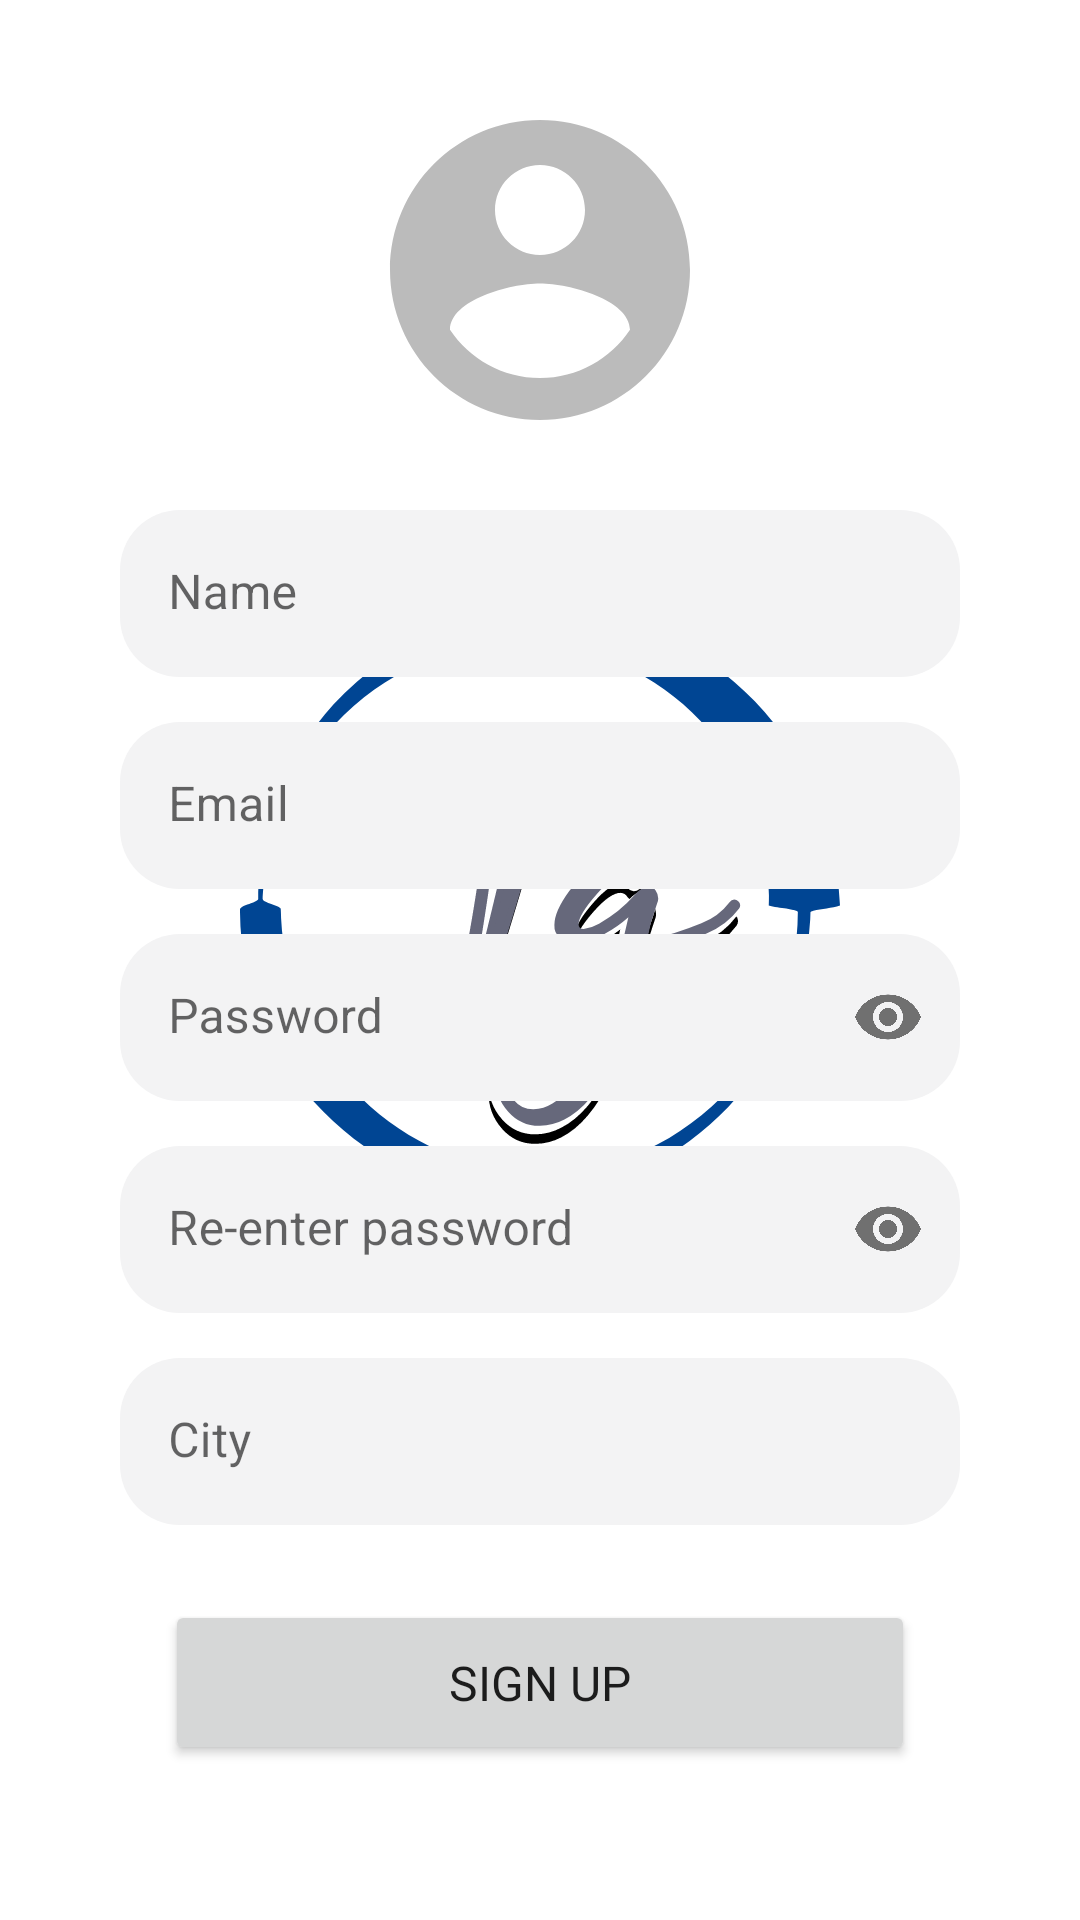

Screen size 1080×1920. Icon name, then its box in pixels as (x1, y1, x2, y2):
Profile photo: (390, 120, 690, 420)
